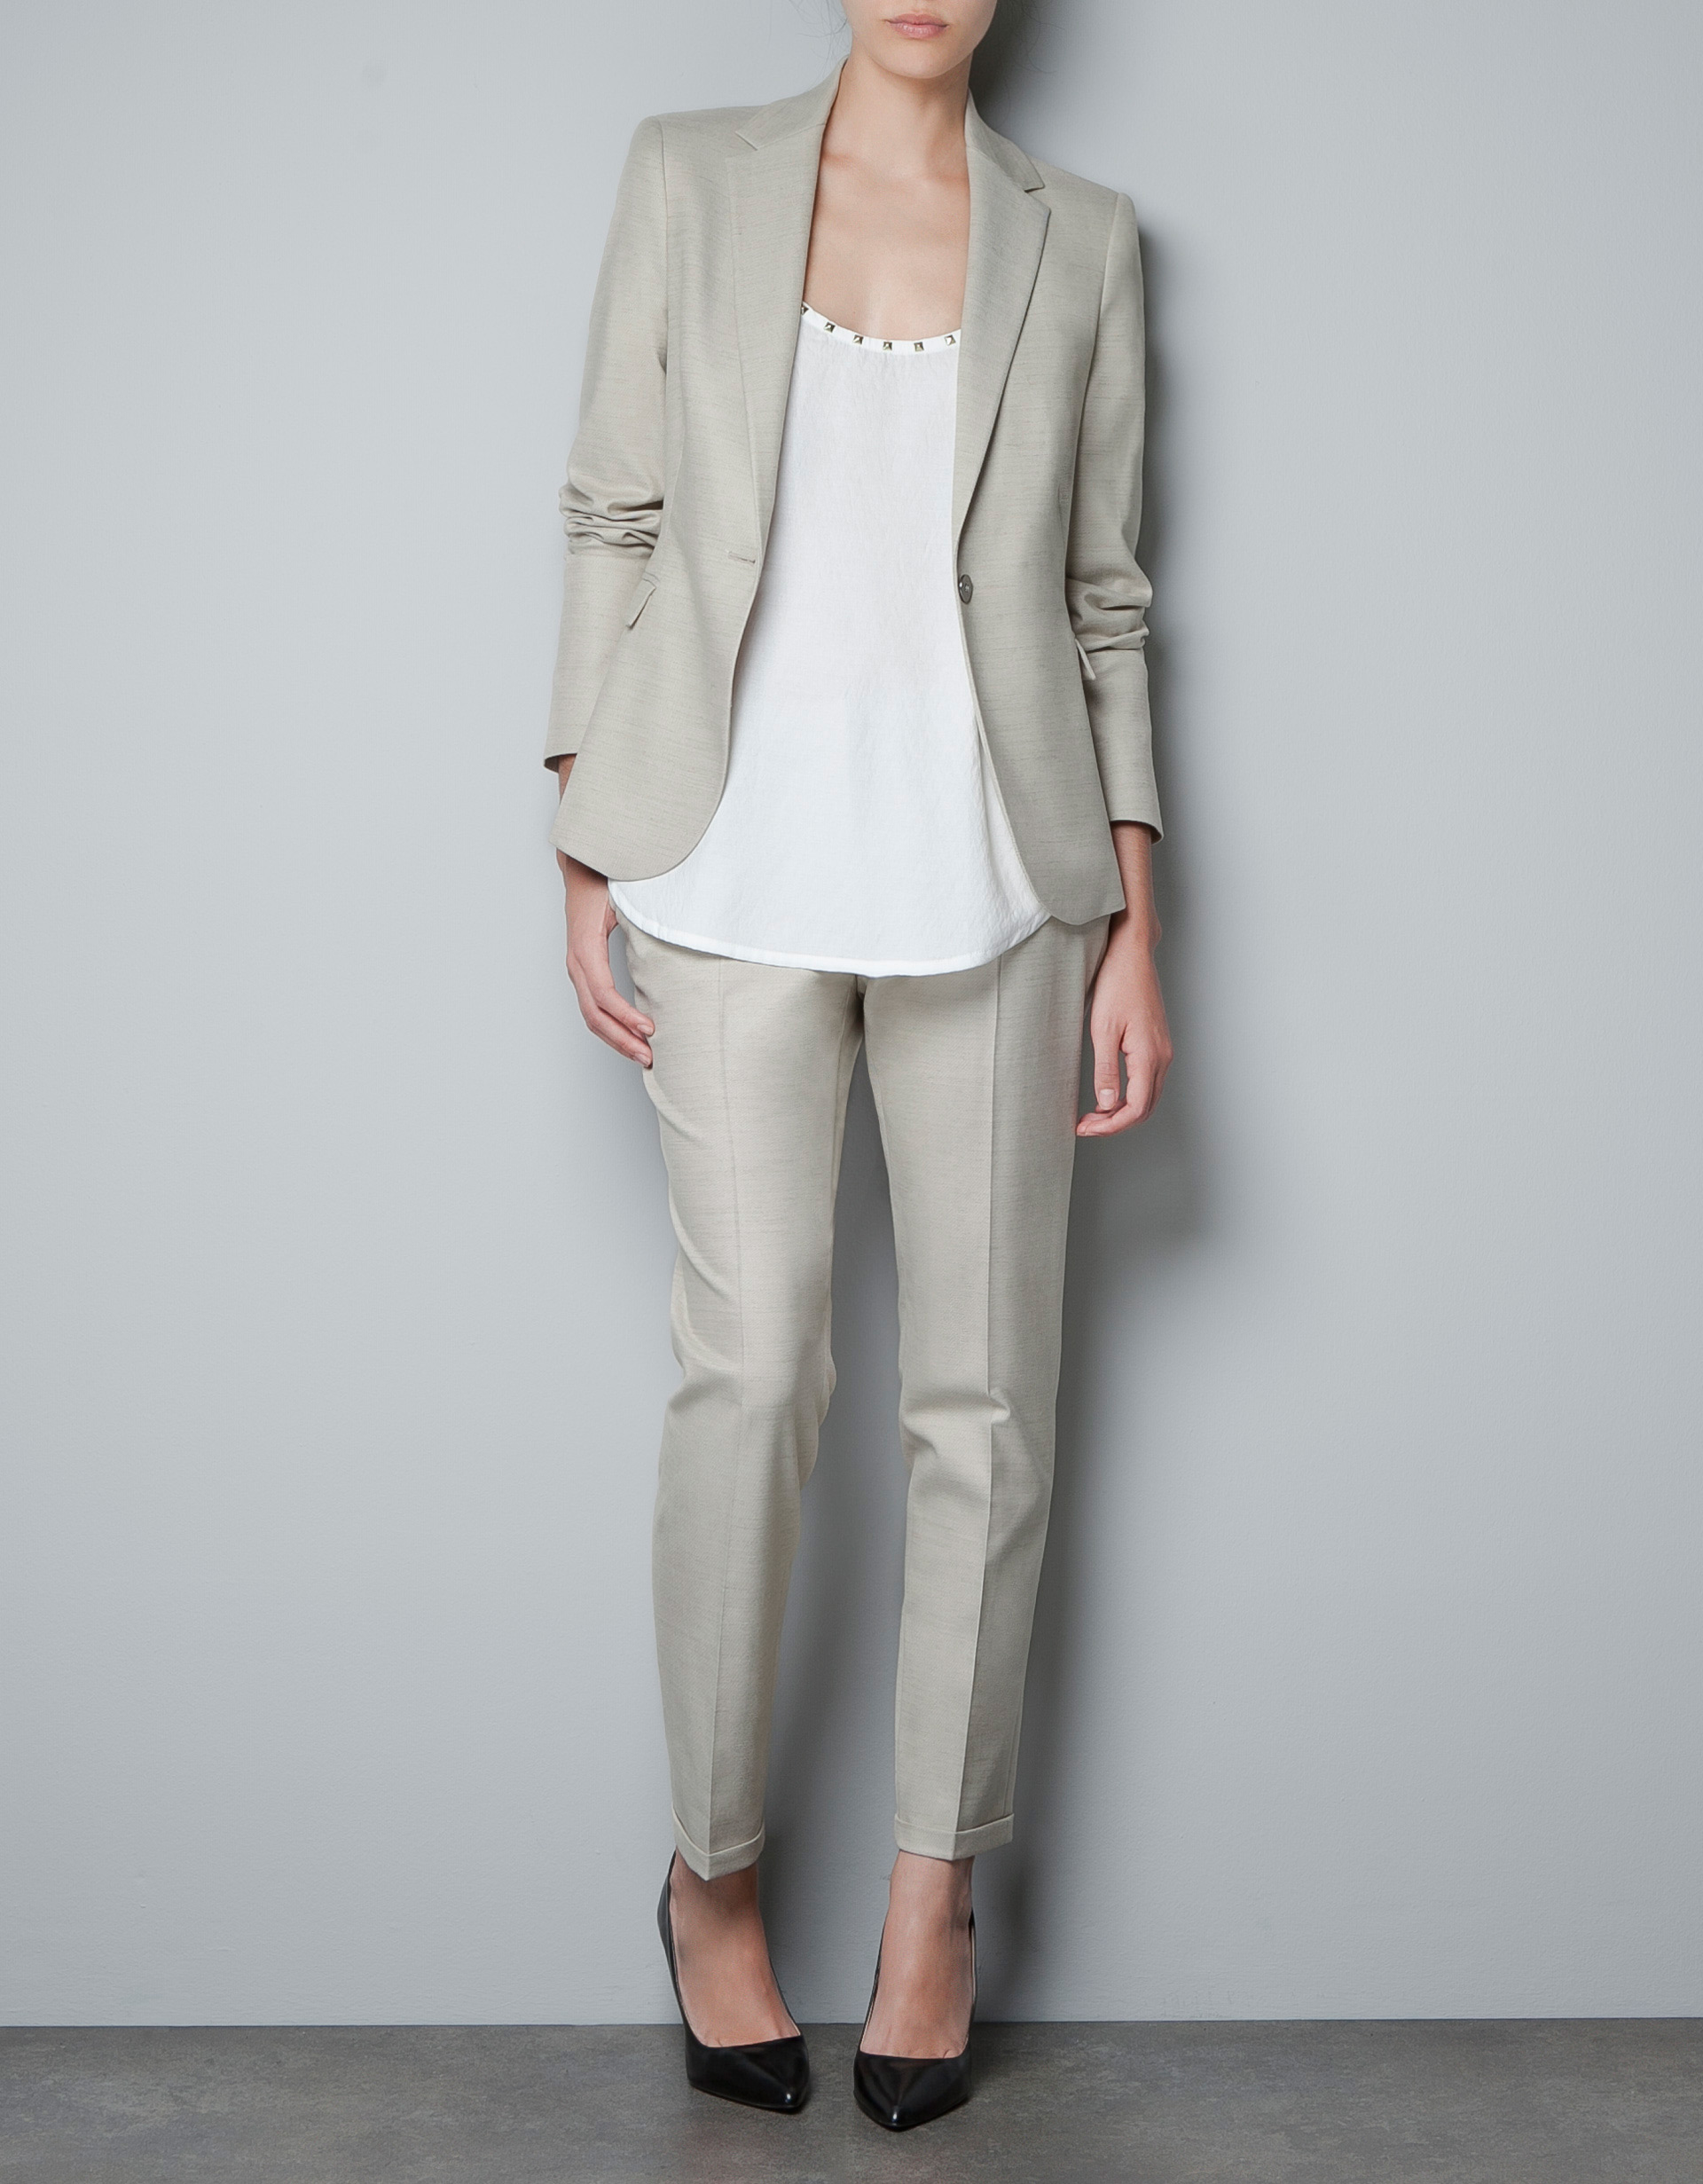S_W_pants: (588, 909, 1141, 1906)
S_business casual jacket: (434, 64, 1256, 954)
S_heels: (603, 1826, 1088, 2136)
